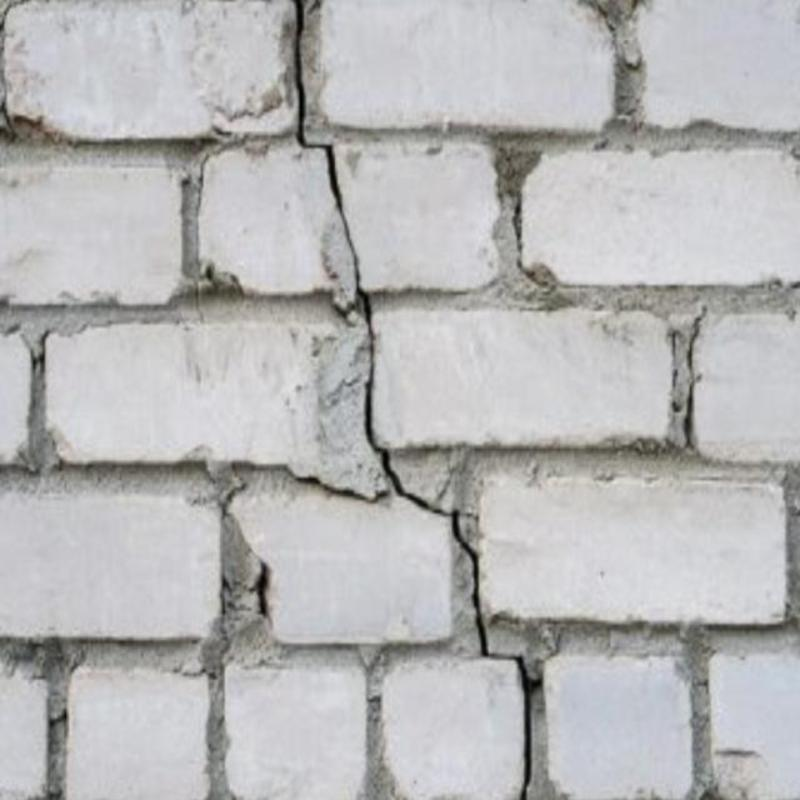crack: (297, 0, 541, 799), (681, 302, 708, 451), (296, 475, 391, 505), (250, 560, 269, 616)
